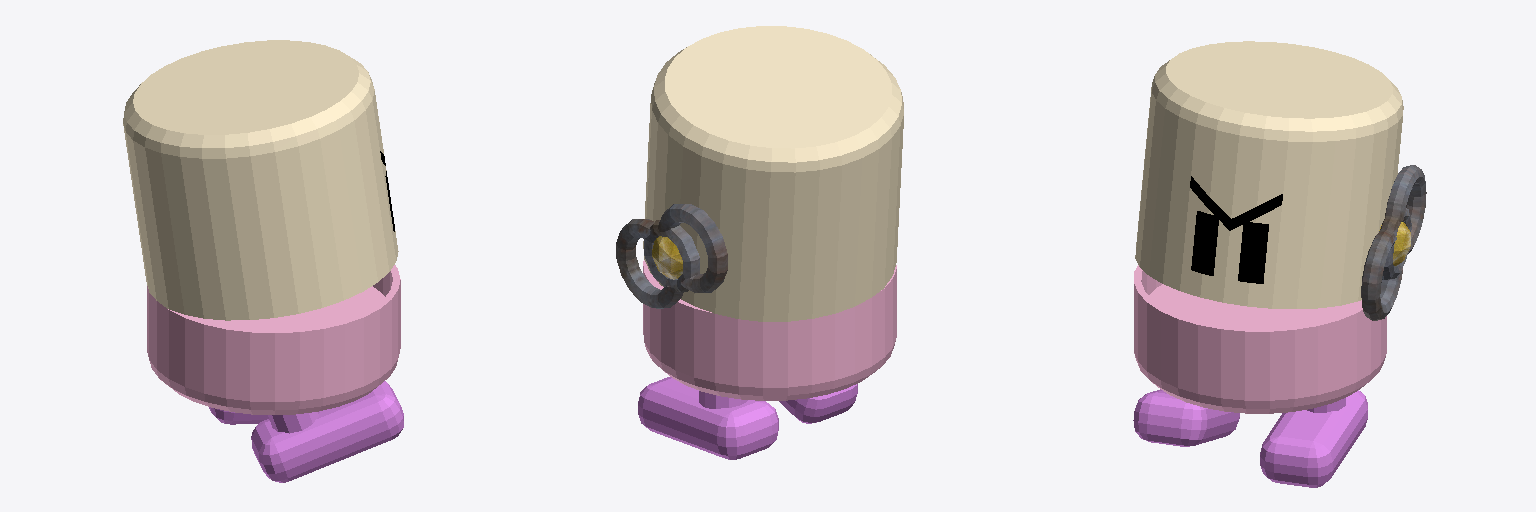
3 views of the same model, side by side, from view 1: azimuth 30°, elevation 25°; view 2: azimuth 150°, elevation 25°; view 3: azimuth 270°, elevation 25° (orthographic).
Visible parts, largest first — view 1: Head, Jaw, RightLeg, LeftLeg; view 2: Head, Jaw, WindupKey, LeftLeg, RightLeg; view 3: Head, Jaw, LeftLeg, WindupKey, RightLeg.
Boxes of the visible parts, <box> form: Head: <box>123,40,398,320</box>; Jaw: <box>147,265,400,414</box>; RightLeg: <box>251,381,403,482</box>; LeftLeg: <box>209,407,268,424</box>; Head: <box>643,26,903,321</box>; Jaw: <box>643,260,896,400</box>; WindupKey: <box>616,204,727,308</box>; LeftLeg: <box>638,377,778,459</box>; RightLeg: <box>779,384,857,423</box>; Head: <box>1135,41,1403,308</box>; Jaw: <box>1134,265,1386,413</box>; LeftLeg: <box>1260,390,1367,487</box>; WindupKey: <box>1361,165,1426,320</box>; RightLeg: <box>1133,389,1239,446</box>.
Bounding box in the file's own units: 107 × 161 × 115.
6 materials, 2 textured.